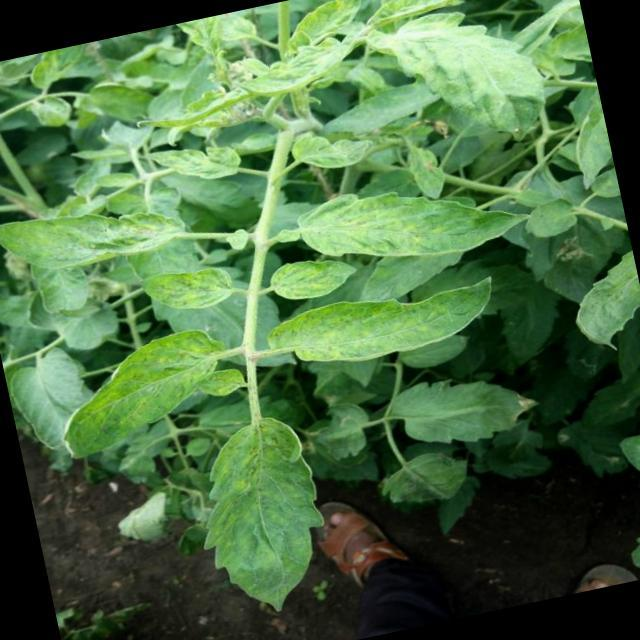Tomato mosaic virus leaf: (179, 408, 341, 626), (291, 152, 542, 285), (361, 0, 555, 171), (39, 320, 238, 466), (260, 268, 502, 382), (0, 180, 191, 287), (262, 248, 364, 312), (140, 256, 240, 318), (276, 0, 373, 55)
